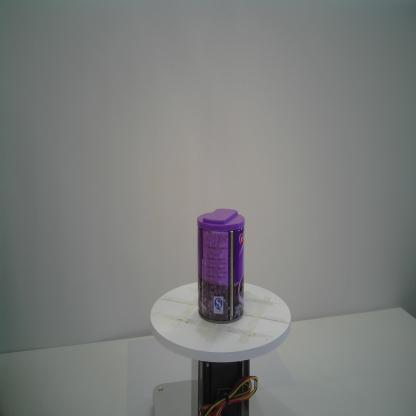Canned Food: (196, 207, 246, 326)
